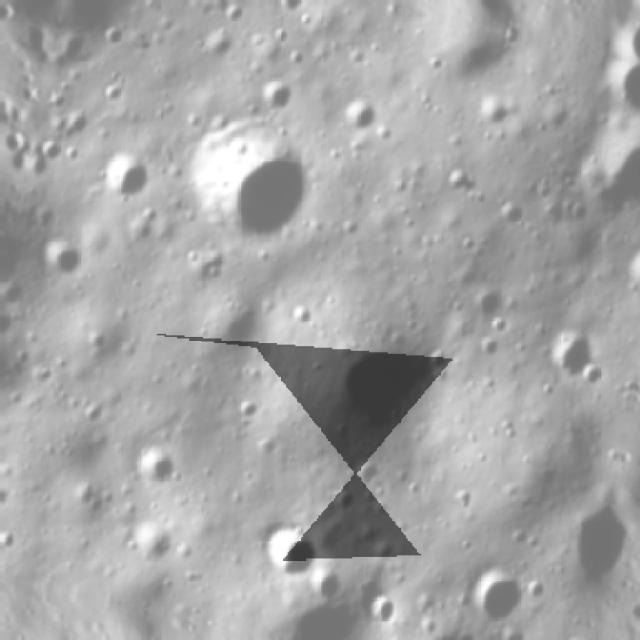crater: (296, 310, 449, 458), (176, 109, 324, 256), (178, 287, 272, 376), (449, 553, 540, 638), (580, 111, 640, 235), (532, 312, 616, 398), (248, 512, 328, 590), (86, 142, 157, 212), (114, 504, 184, 571), (29, 225, 96, 288), (586, 52, 640, 126), (55, 0, 136, 46), (126, 434, 186, 495), (459, 272, 519, 328), (330, 88, 385, 142), (481, 187, 532, 236), (356, 588, 406, 637), (191, 21, 235, 68), (611, 238, 640, 304), (264, 0, 310, 22), (0, 476, 15, 518), (160, 0, 206, 8)
